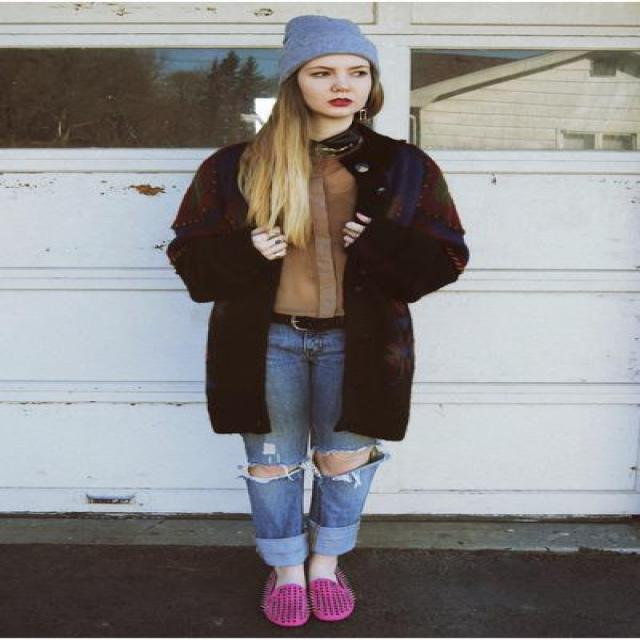hat: (259, 15, 402, 63)
jacket: (166, 115, 469, 444)
pants: (238, 324, 373, 575)
shirt: (275, 146, 360, 319)
shoe: (261, 576, 355, 625)
